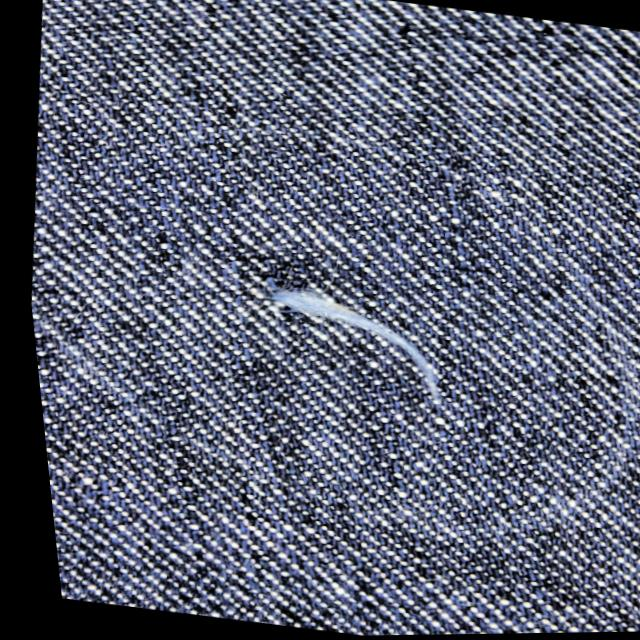Stitch: (207, 252, 514, 440)
